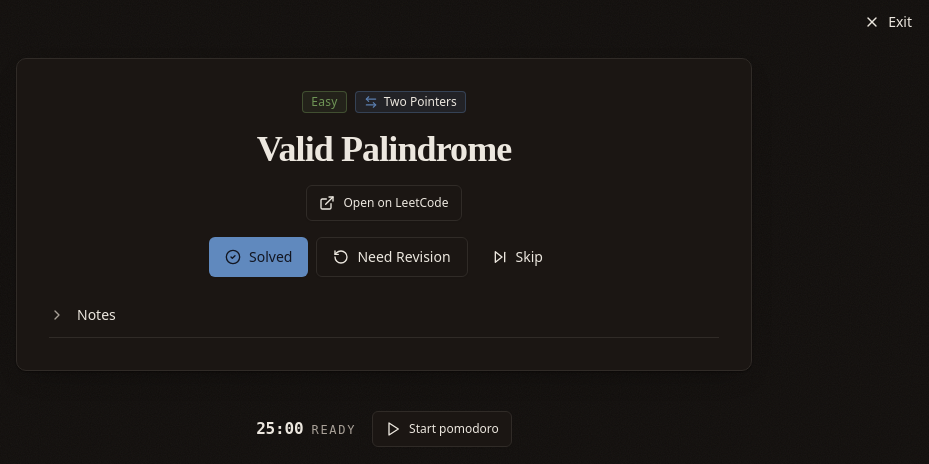
it: FocusPage: new-question source (today's slice has an unsolved item) › clicking Skip advances to the next question instead of re-presenting the same one
This screenshot has width=929, height=464.
expect the heading "Valid Palindrome" is shown: met, box 257,129 -> 511,169
Click the button "Skip": (517, 257) 476,237 -> 559,277
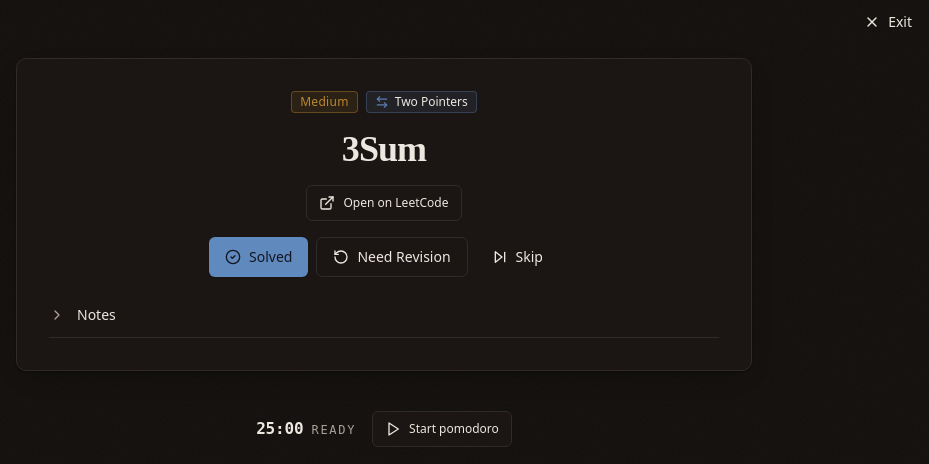
expect the heading "Valid Palindrome" is gone: met
expect the heading "3Sum" is shown: met, box 342,129 -> 426,169
